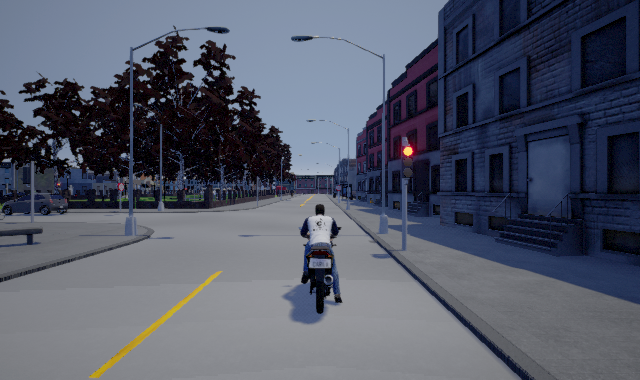motobike: (297, 203, 344, 317)
traffic_light: (401, 139, 413, 185)
vehicle: (1, 192, 70, 217)
